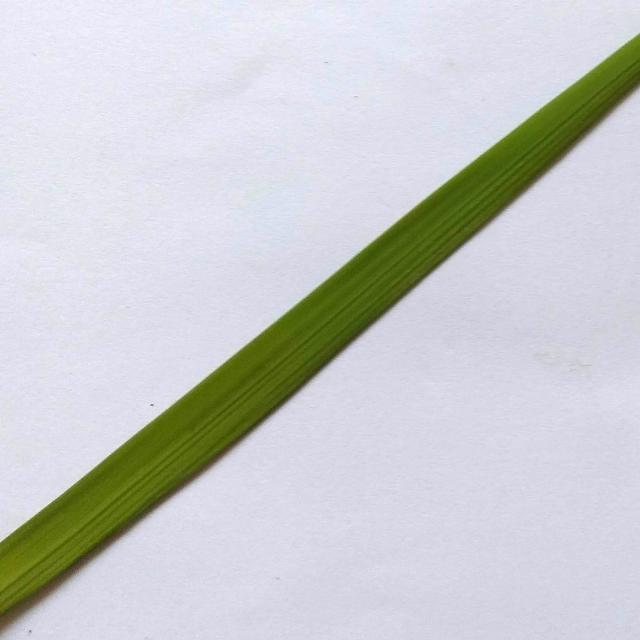Rice_Healthy: (0, 34, 640, 614)
